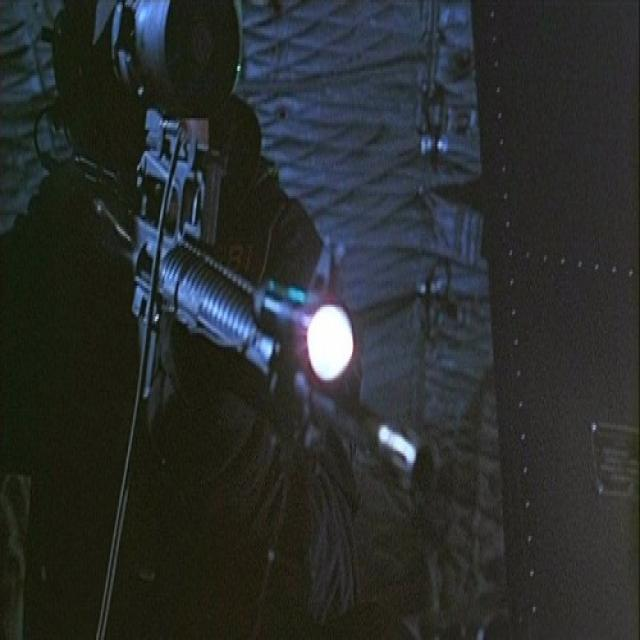rifle: (63, 1, 439, 504)
